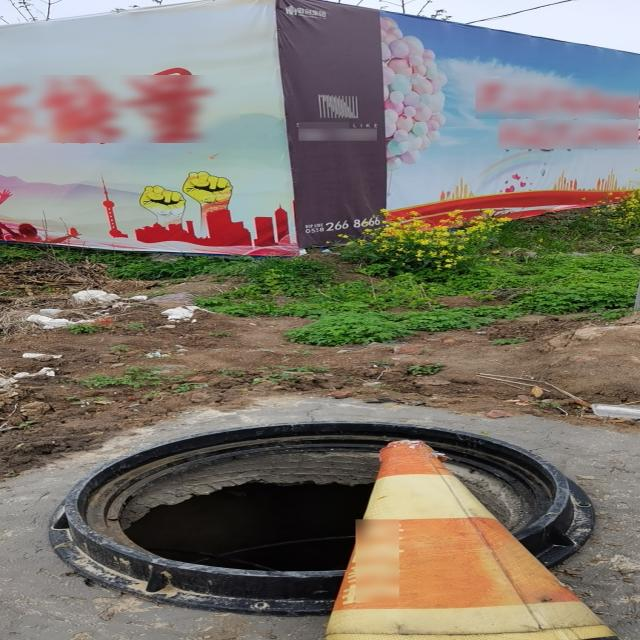Uncovered: (52, 420, 596, 620)
